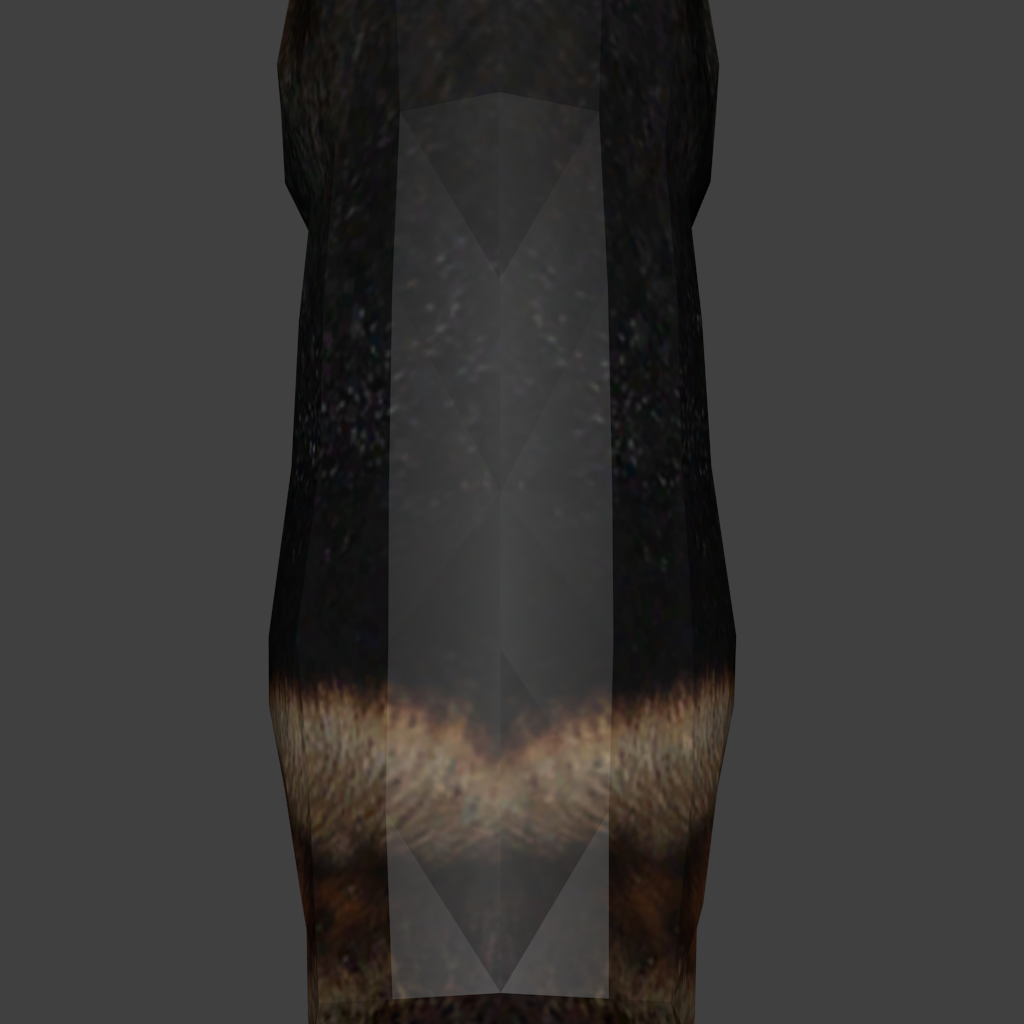Dog: (160, 0, 688, 1024)
